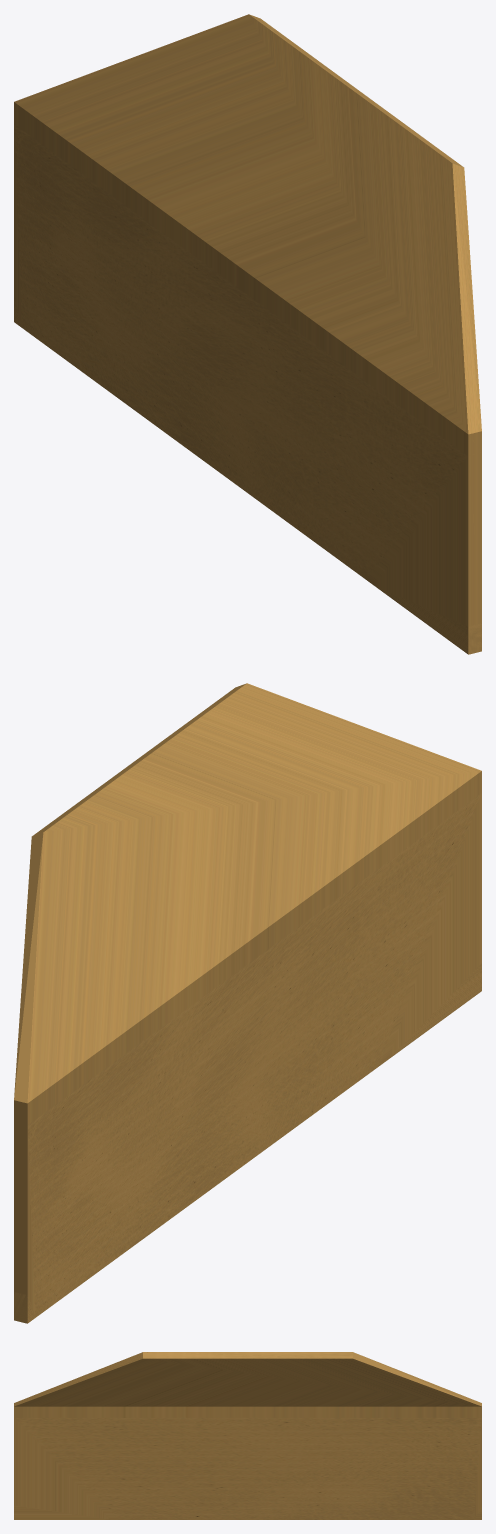
The model's file is box_front.dae.
3 views of the same model, one above another, from view 1: azimuth 30°, elevation 25°; view 2: azimuth 150°, elevation 25°; view 3: azimuth 270°, elevation 25° (orthographic). The views are drawn at different scales.
Visible parts, largest first — view 1: Front; view 2: Front; view 3: Front.
Boxes of the visible parts, x1,y1,x2,y2 form: Front: (14,14,481,654); Front: (14,683,481,1323); Front: (14,1352,481,1519).
Bounding box in the file's own units: 2.23 × 14.5 × 6.56.
Materials: 1 (1 with a texture image).
